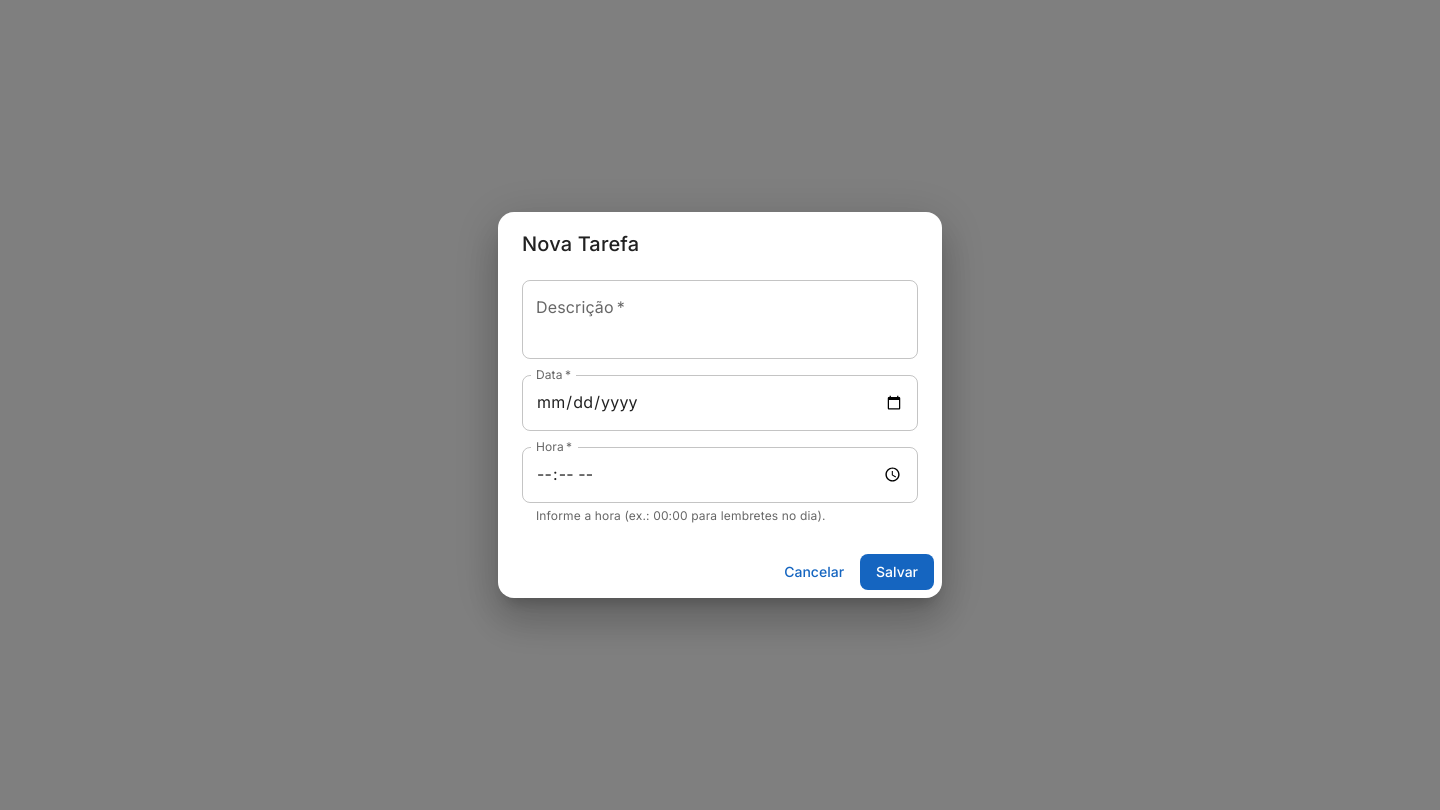
Test case: TaskForm › AC-2: shows error only for the empty field when others are filled
The image size is (1440, 810).
// Fill description and date but leave time empty
In the text box labelled "Descrição *": (720, 319) top-left (536, 296), bottom-right (904, 342), type "Minha tarefa"
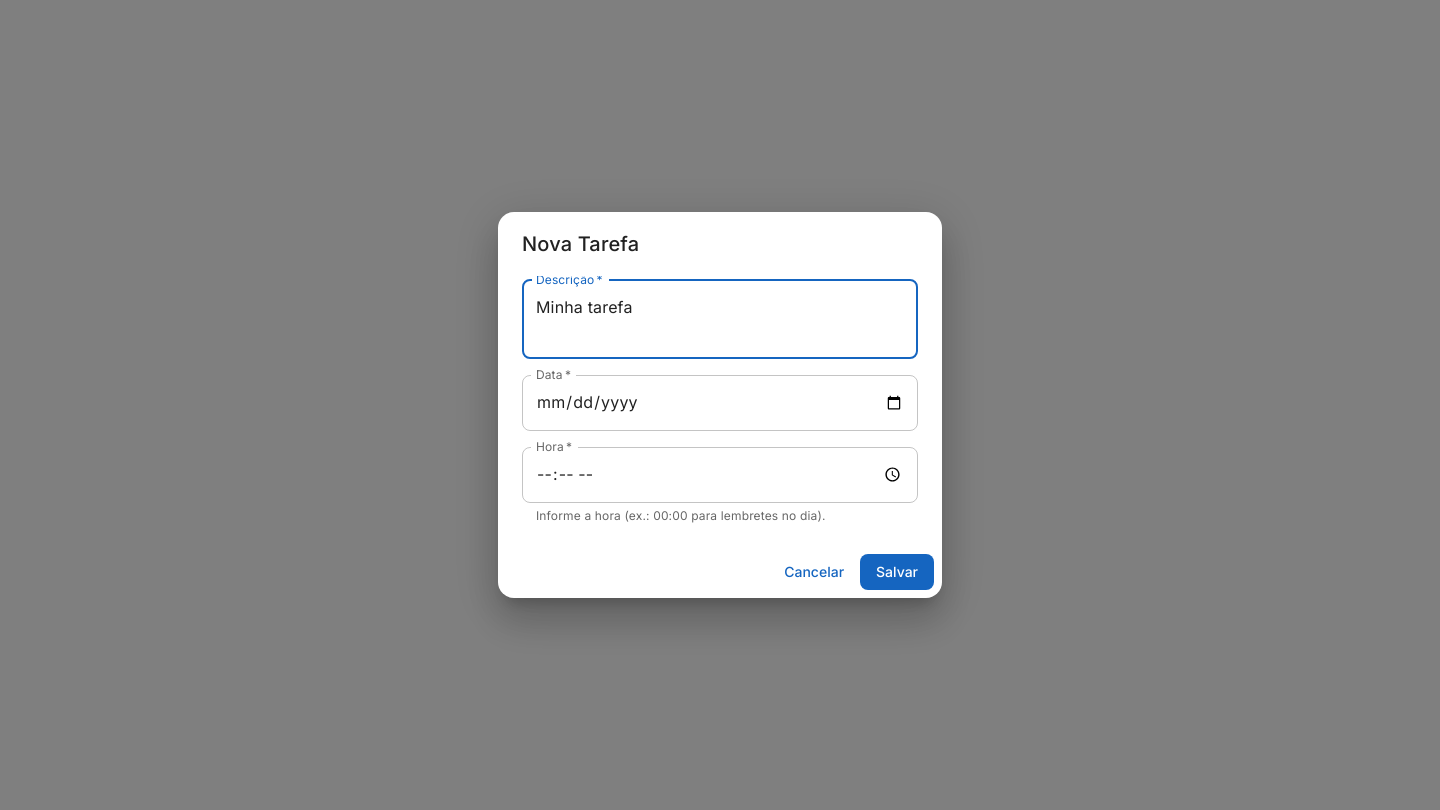
In the date field labelled "Data *": (720, 403) top-left (522, 375), bottom-right (918, 431), type "2026-11-01"
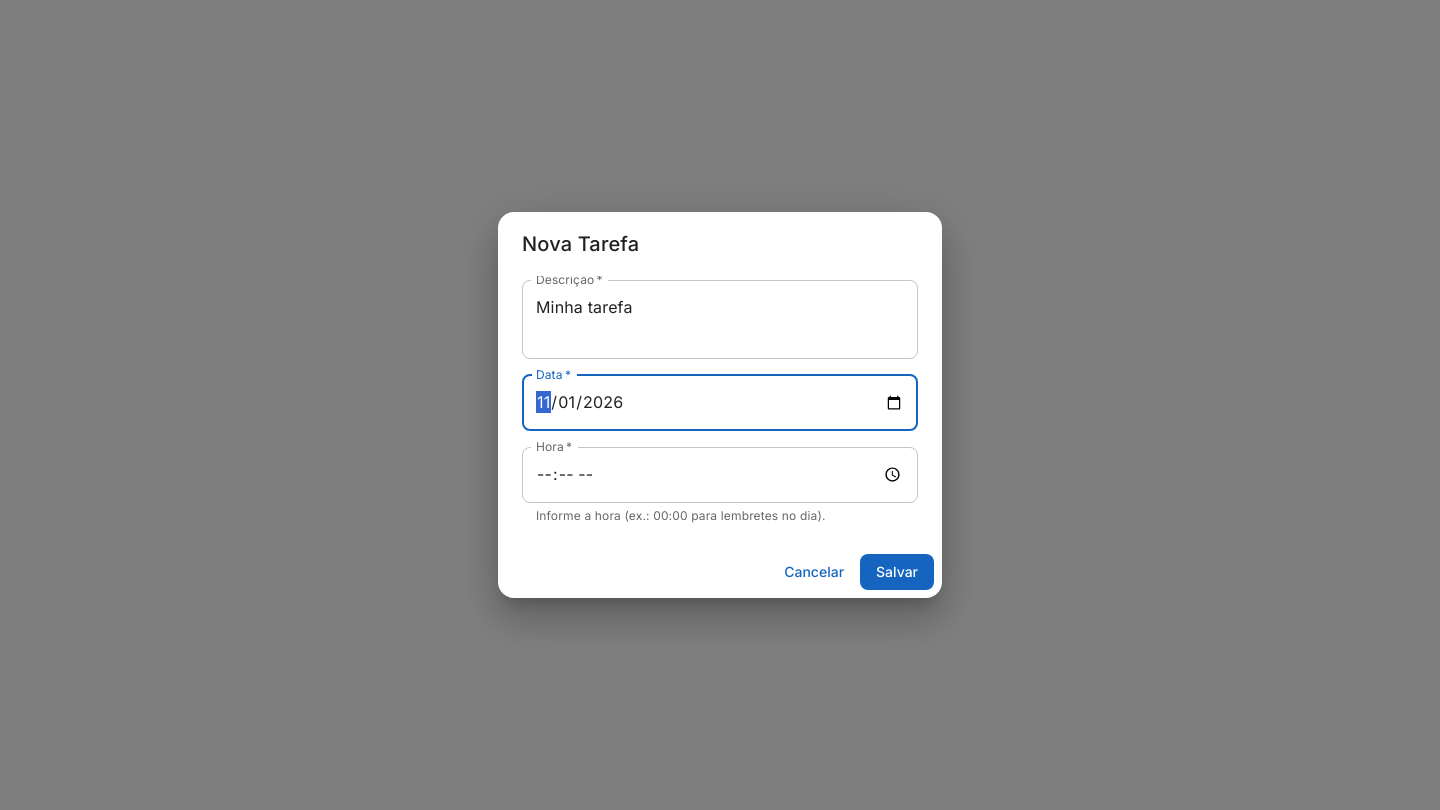
Click the button "Salvar": (897, 572) top-left (860, 554), bottom-right (934, 590)
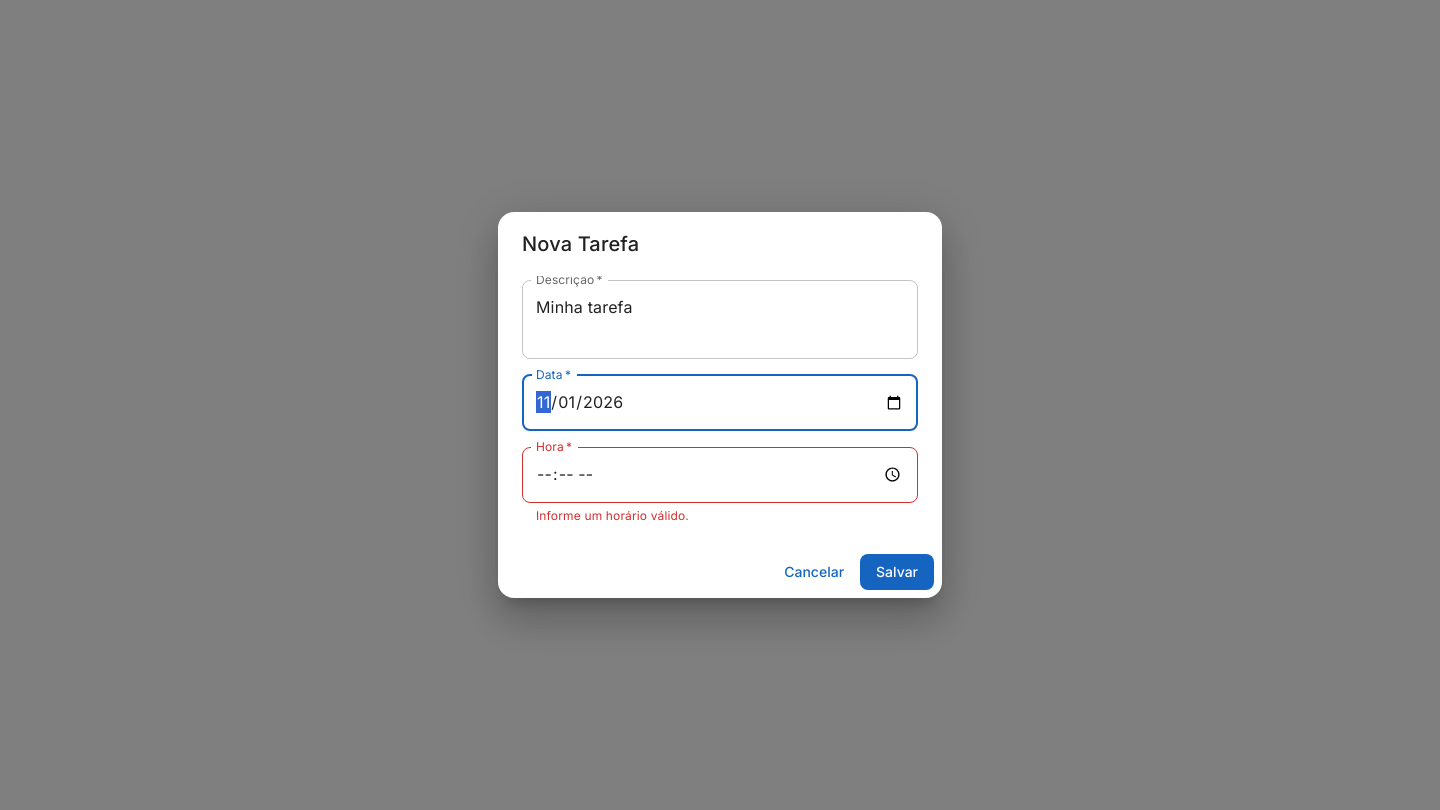
Expected: the text "Informe um horário válido." is shown, top-left (536, 508), bottom-right (689, 523)
